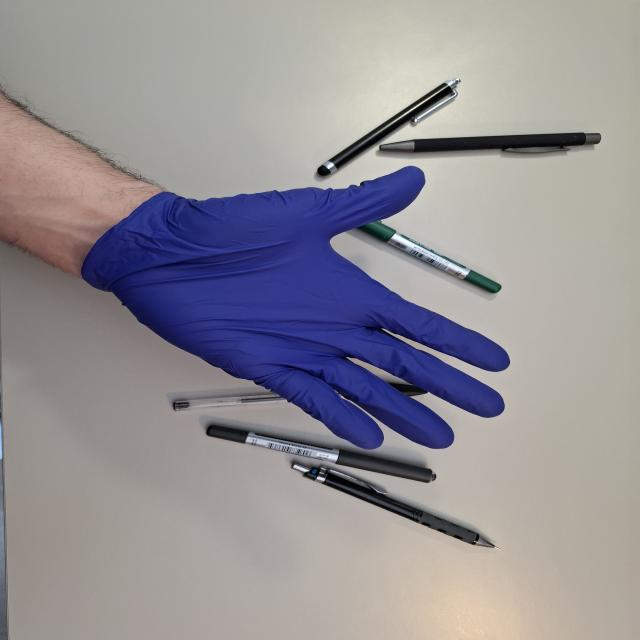glove_on: (84, 164, 514, 453)
